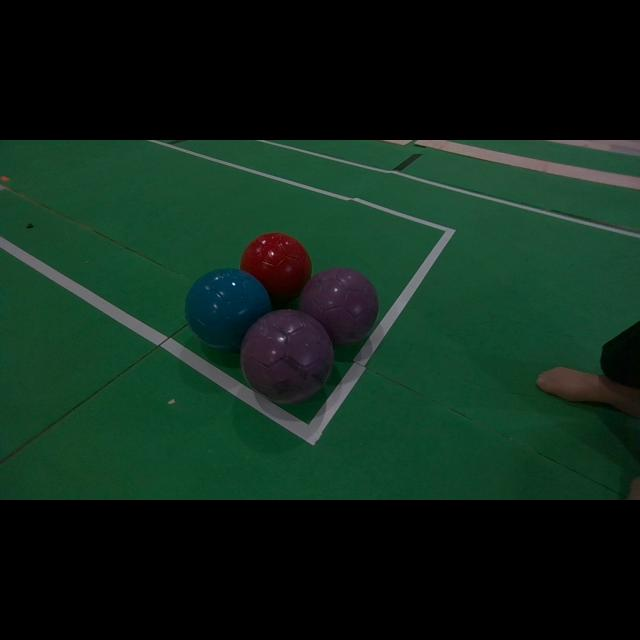B: (185, 269, 271, 352)
P: (241, 310, 334, 404), (300, 268, 379, 346)
R: (240, 232, 311, 303)
